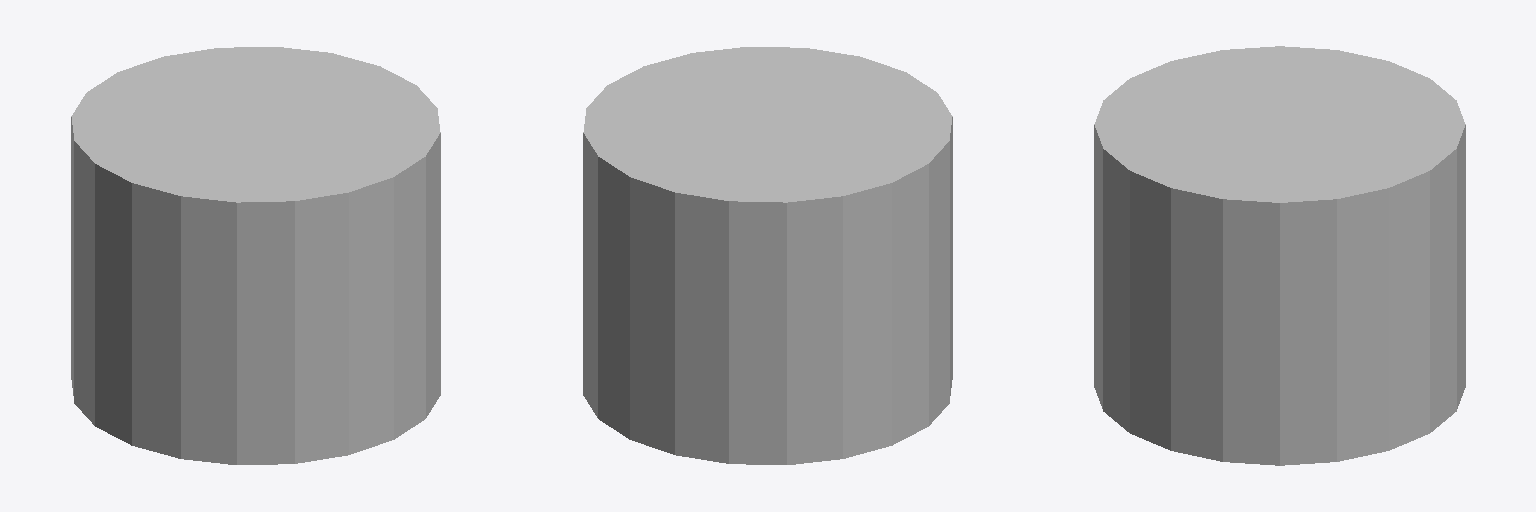
File: Room.obj
3 views of the same model, side by side, from view 1: azimuth 30°, elevation 25°; view 2: azimuth 150°, elevation 25°; view 3: azimuth 270°, elevation 25° (orthographic).
Visible parts, largest first — view 1: Main_Cylinder; view 2: Main_Cylinder; view 3: Main_Cylinder.
Boxes of the visible parts, x1,y1,x2,y2 form: Main_Cylinder: [71, 47, 440, 464]; Main_Cylinder: [583, 47, 952, 464]; Main_Cylinder: [1094, 46, 1465, 465].
Size of the model in its own units: 256 by 200 by 256.